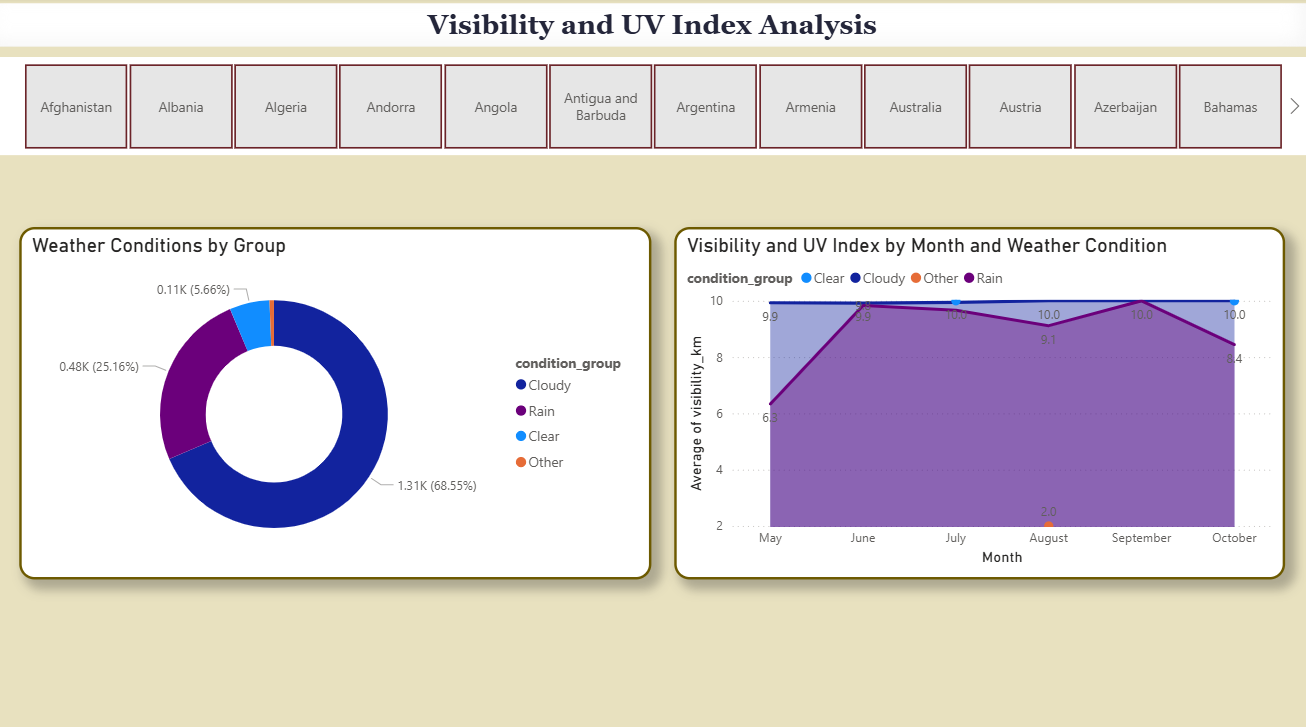

What the dashboard file says about the page in this screenshot:
{"tool":"powerbi","page":{"name":"Visibility and UV Index Analysis","canvas":[1280,720],"ordinal":3},"visuals":[{"type":"areaChart","title":"Visibility and UV Index by Month and Weather Condition","fields":{"Category":["weather_data_analysis.last_updated.date.Variation.Date Hierarchy.Month","weather_data_analysis.last_updated.date.Variation.Date Hierarchy.Day"],"Series":["weather_data_analysis.condition_group"],"Y":["Avg(weather_data_analysis.visibility_km)"]},"box":[661.2,225,597.5,345],"z":0},{"type":"donutChart","title":"Weather Conditions by Group","fields":{"Y":["CountNonNull(weather_data_analysis.condition_group)"],"Category":["weather_data_analysis.condition_group"]},"box":[21.2,225,618.8,345],"z":1000},{"type":"slicer","fields":{"Values":["air_quality_data_analysis.country"]},"box":[0,58.8,1280,96.2],"z":2000},{"type":"textbox","box":[0,6.1,1280.3,42.8],"z":3000}]}

Visuals, with their boxes in screenshot pixels (x1, y1, x2, y2), scaled from the page's 1280x720 canvas onto the 1306x727 screenshot:
"Visibility and UV Index by Month and Weather Condition" areaChart: [left=675, top=227, right=1284, bottom=576]
"Weather Conditions by Group" donutChart: [left=22, top=227, right=653, bottom=576]
slicer - air_quality_data_analysis.country: [left=0, top=59, right=1305, bottom=157]
textbox: [left=0, top=6, right=1305, bottom=49]
